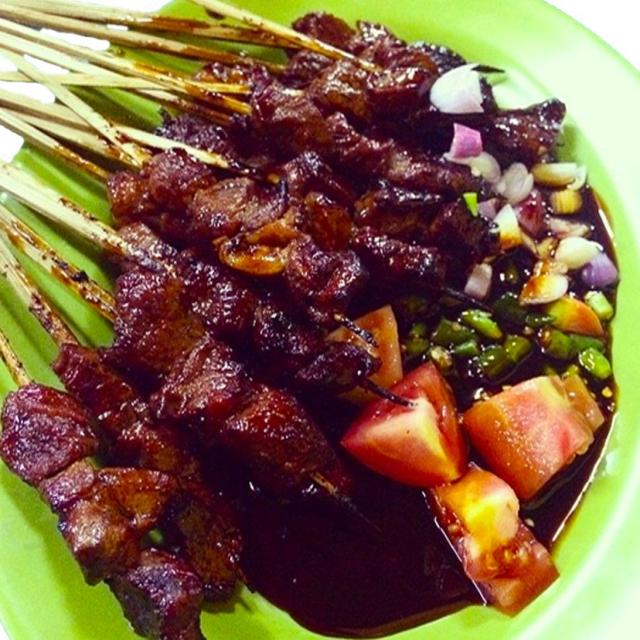Sate: (0, 14, 422, 538)
